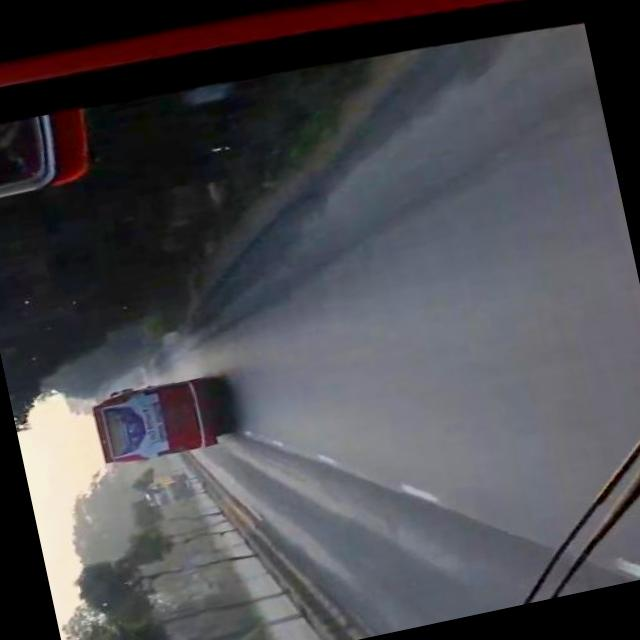bus: (86, 368, 222, 466)
truck: (135, 468, 189, 508)
